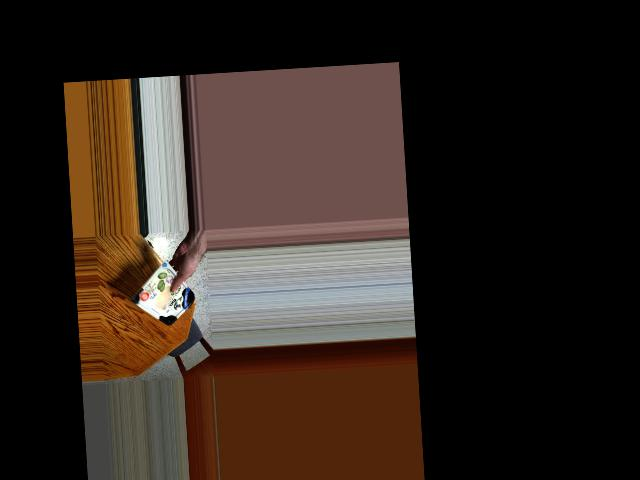cheese: (138, 270, 196, 321)
